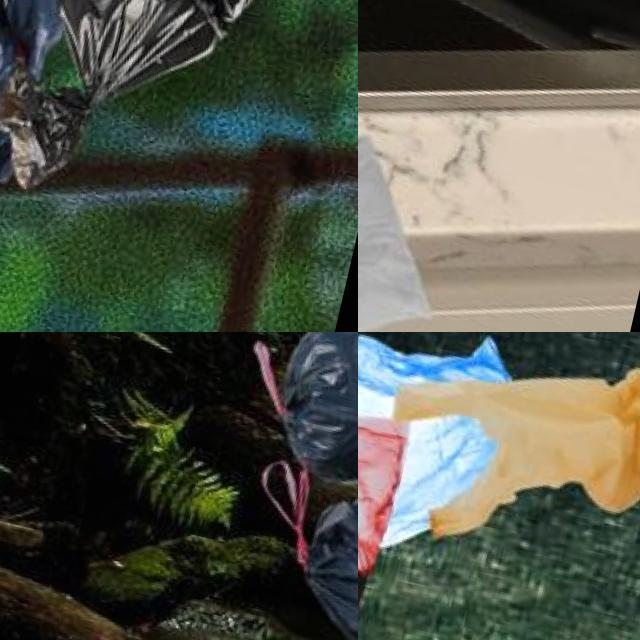waste: (373, 332, 640, 576), (358, 332, 514, 540), (358, 91, 452, 332), (254, 456, 358, 640), (246, 332, 358, 499), (0, 0, 92, 79), (0, 79, 30, 228)
